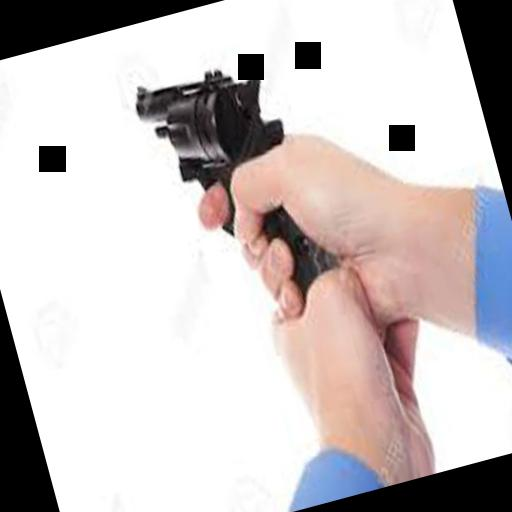Handgun: (124, 40, 348, 322)
